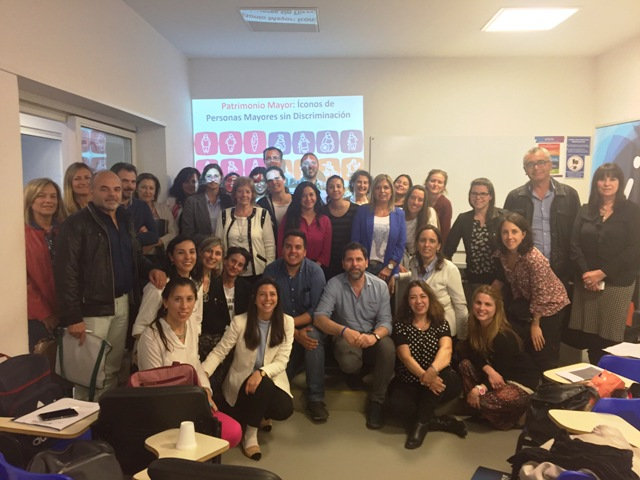person: (455, 277, 526, 375), (394, 274, 461, 369), (507, 153, 571, 236), (331, 241, 395, 323), (494, 216, 558, 292), (148, 280, 213, 353), (577, 150, 629, 239), (75, 163, 129, 241), (233, 274, 287, 351), (396, 279, 445, 353), (271, 238, 314, 294), (225, 177, 258, 231)
